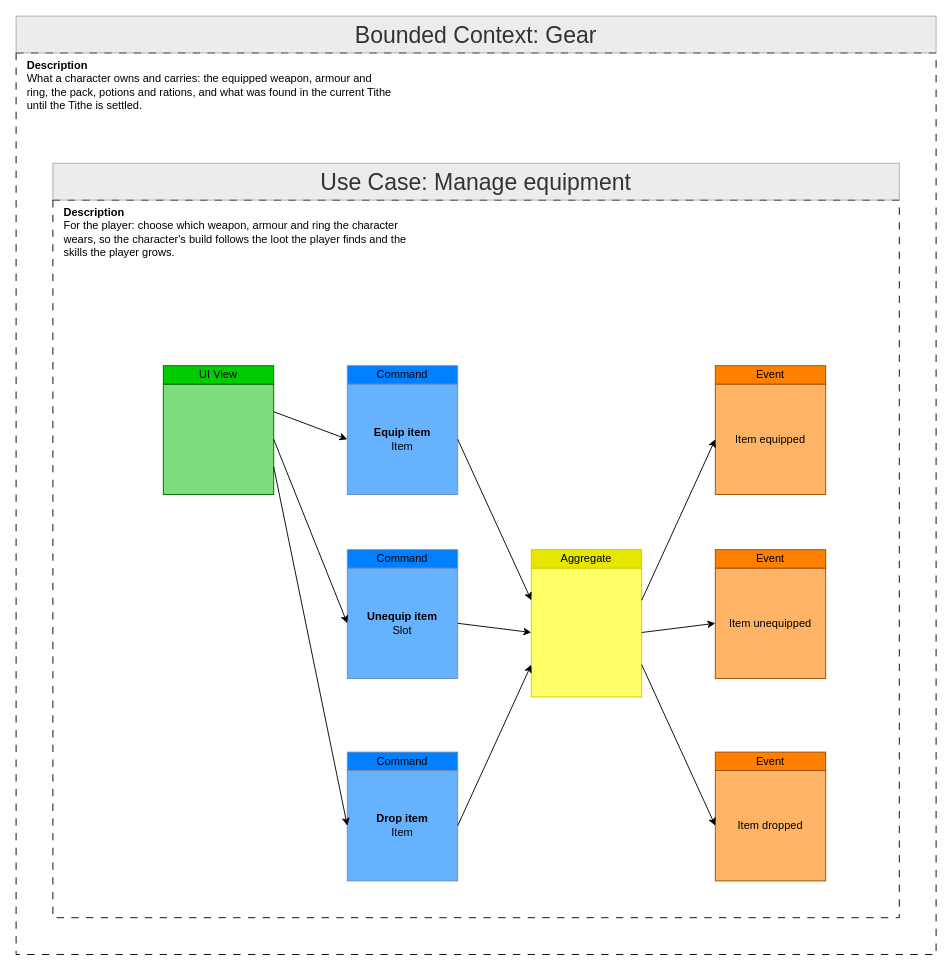
Image size: 952x971. Some labels were removed from this diagram. Each missing label, with the box of its shape:
Inventory Equipment · Weapon · Armour · Ring Items (many) · Item: (530, 567, 642, 697)
Inventory Player: (162, 383, 274, 494)
